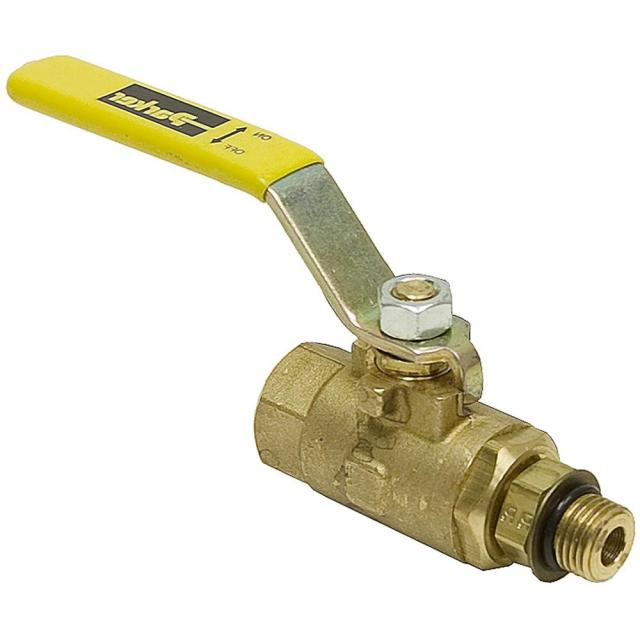opened_valve: (4, 54, 638, 586)
